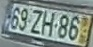6: (67, 15, 80, 41), (9, 6, 20, 30)
8: (56, 14, 70, 38)
9: (18, 7, 29, 32)
H: (40, 11, 55, 37)
Z: (30, 9, 43, 34)
